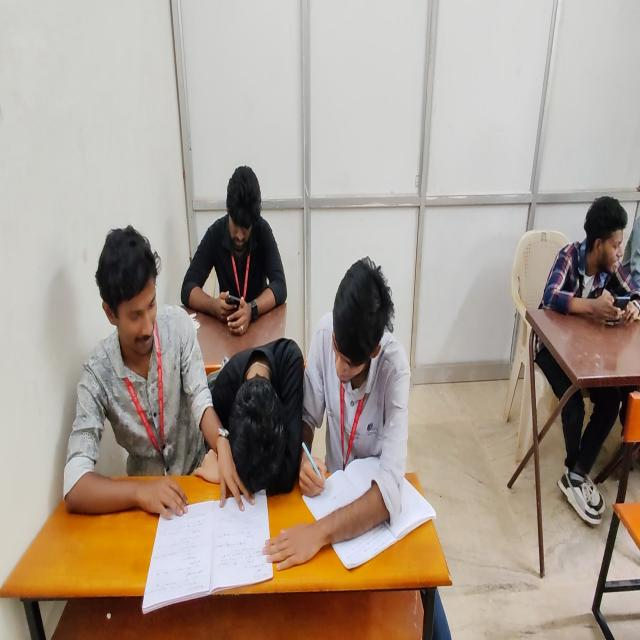sleeping: (204, 331, 310, 506)
turning: (46, 228, 242, 522)
using_mobile: (170, 151, 304, 339), (535, 185, 640, 351)
writing: (296, 242, 419, 597)
